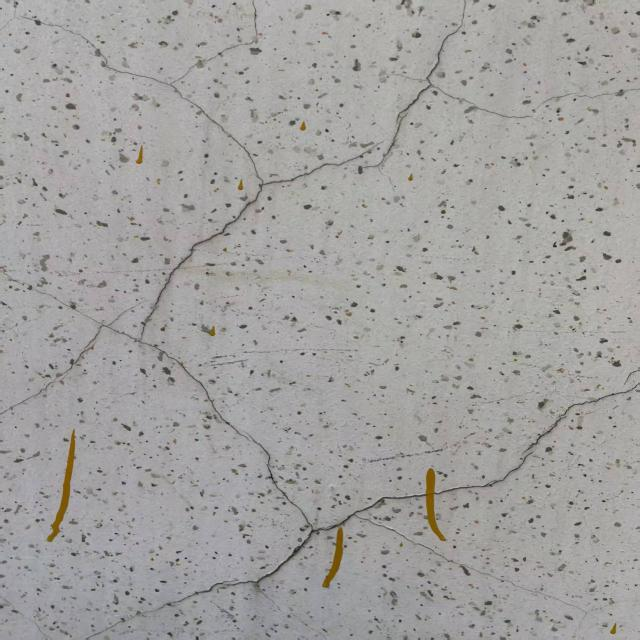crack: (1, 6, 639, 636)
